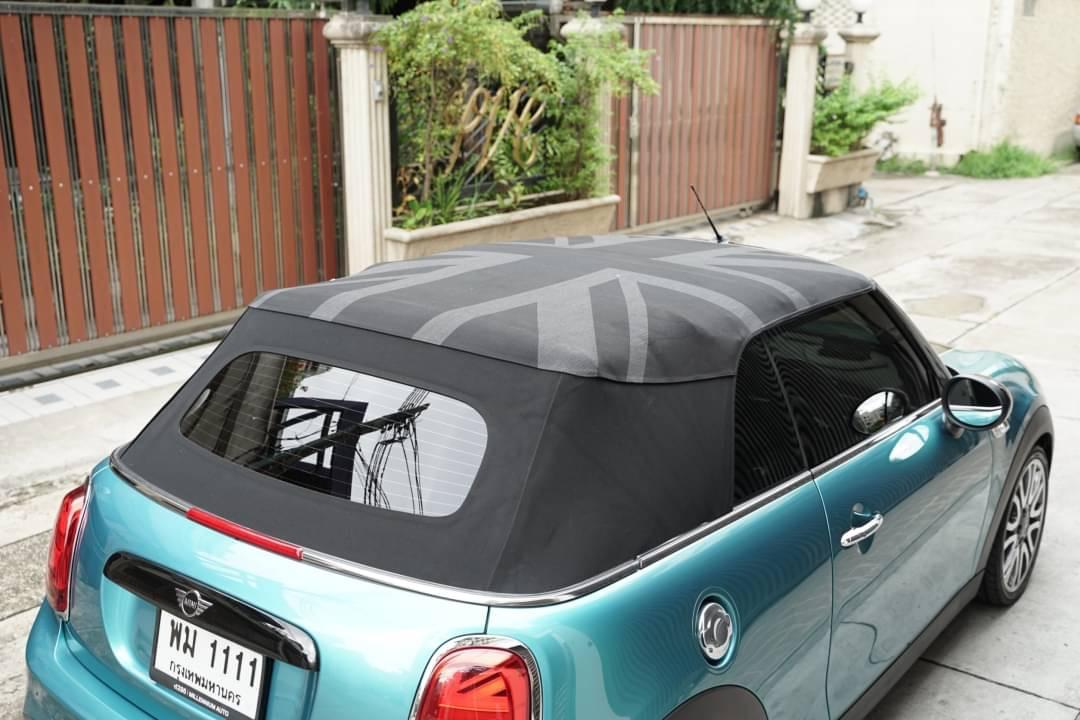license-plate: (142, 593, 284, 720)
